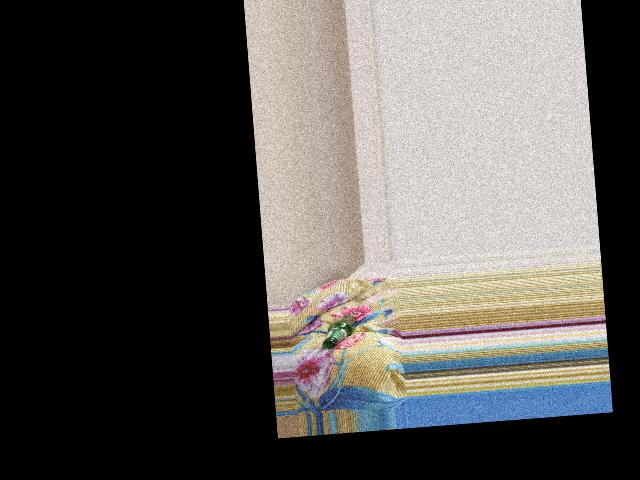beer: (319, 314, 359, 350)
